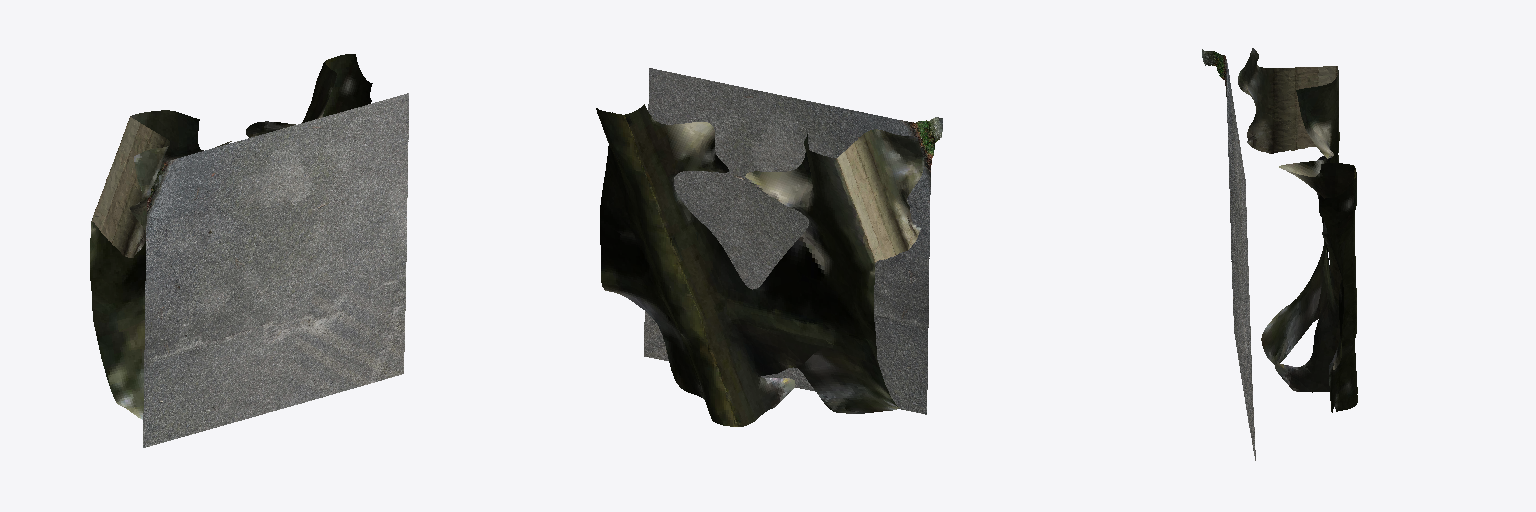
3 renders of one model, left to right at view 1: azimuth 30°, elevation 25°; view 2: azimuth 150°, elevation 25°; view 3: azimuth 270°, elevation 25°, orthographic.
Size of the model in its own units: 3.03 by 3.03 by 1.5.
Materials: 2 (1 with a texture image).